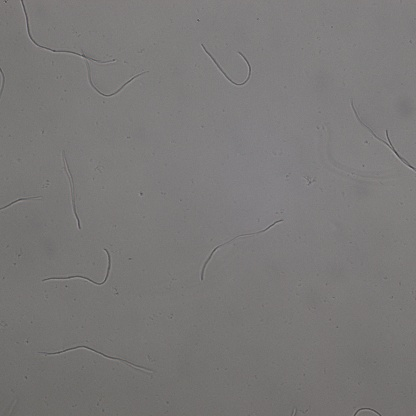Sensitive: (20, 1, 116, 64), (201, 220, 282, 279), (352, 100, 416, 171), (38, 344, 151, 374), (83, 53, 148, 98), (41, 249, 114, 286), (202, 43, 252, 86), (62, 153, 81, 228), (1, 195, 42, 210), (353, 406, 381, 416)
